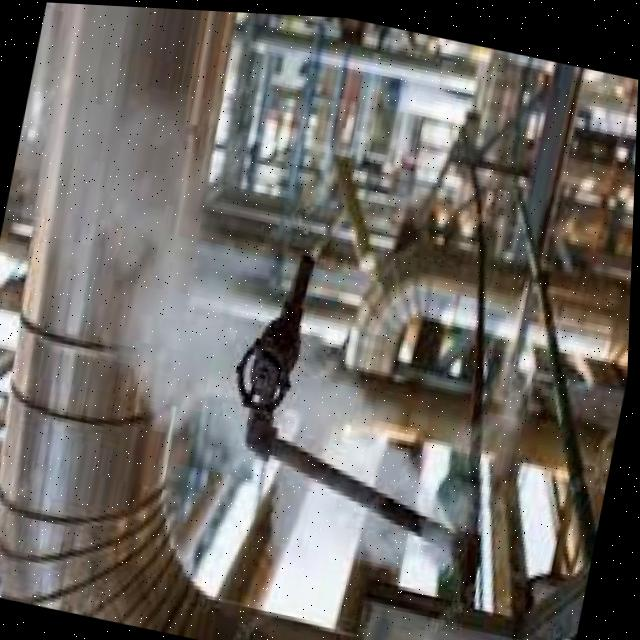corrosion: (299, 445, 476, 600)
